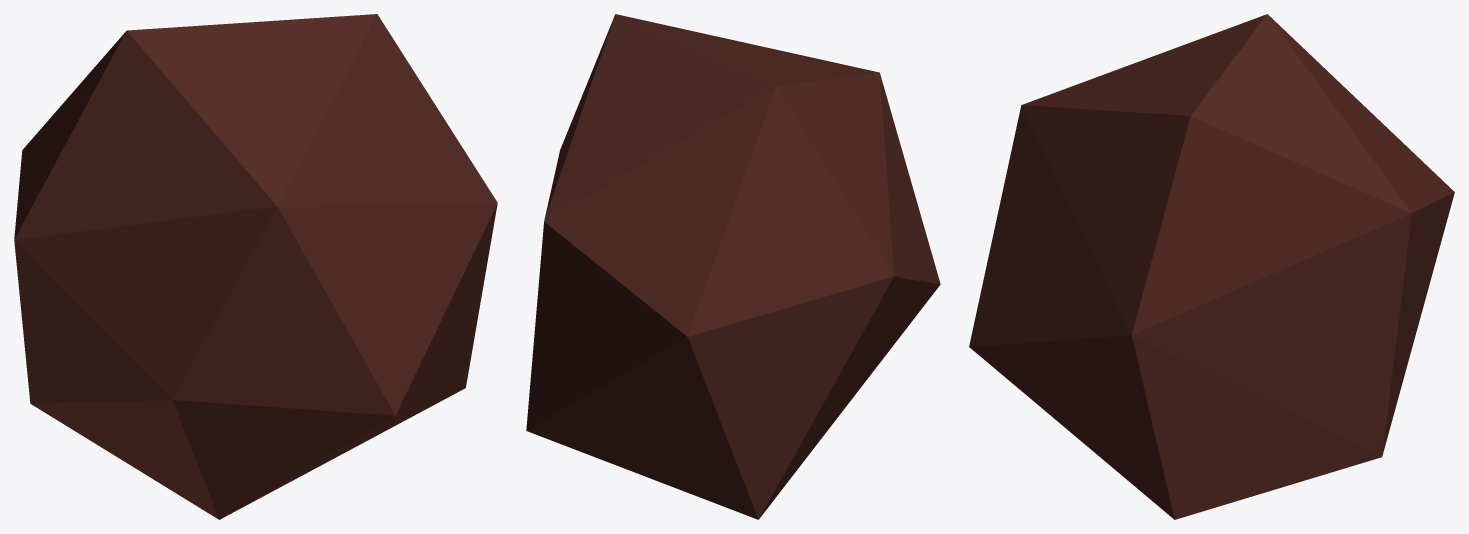
The model's file is Altar_Rock.FBX.
The picture shows the model from 3 angles, left to right: view 1: azimuth 30°, elevation 25°; view 2: azimuth 150°, elevation 25°; view 3: azimuth 270°, elevation 25°; orthographic projection. The views are drawn at different scales.
Visible parts, largest first — view 1: Altar_Rock; view 2: Altar_Rock; view 3: Altar_Rock.
Part boxes in pixels (x1=…): Altar_Rock: x1=14, y1=14, x2=497, y2=519; Altar_Rock: x1=526, y1=14, x2=940, y2=519; Altar_Rock: x1=969, y1=14, x2=1454, y2=519.
Bounding box in the file's own units: 232 × 254 × 246.
